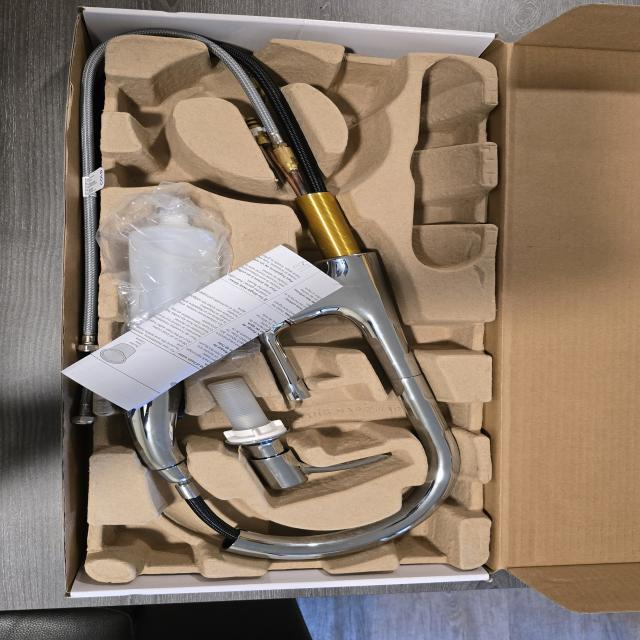1o: (121, 37, 467, 560)
2: (209, 378, 391, 490)
3o: (118, 193, 224, 356)
4m: (413, 59, 484, 272)
5m: (335, 68, 395, 115)
6m: (115, 63, 210, 121)
7m: (118, 128, 234, 197)
8: (60, 244, 346, 412)
